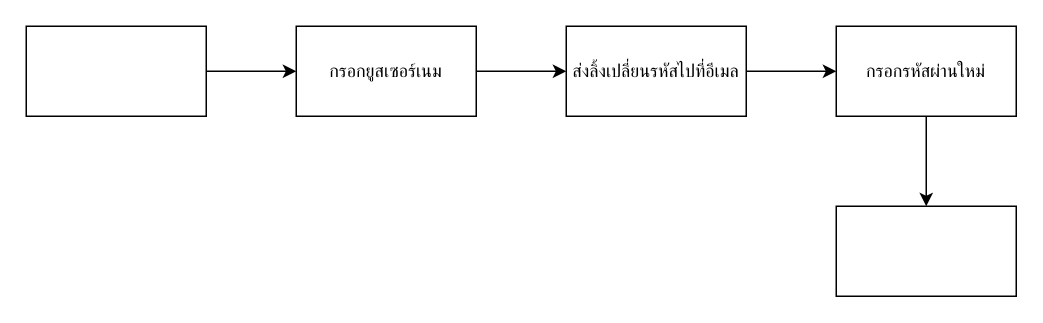
This 1043x323 diagram has some shape labels left out. The shapes that lost their labels are listed below. From the top down, each one's centre as x and y in pixels, then its label:
At pixel 115 70: "ลืมรหัสผ่าน".
At pixel 925 250: "บันทึกลงดาต้าเบส".
